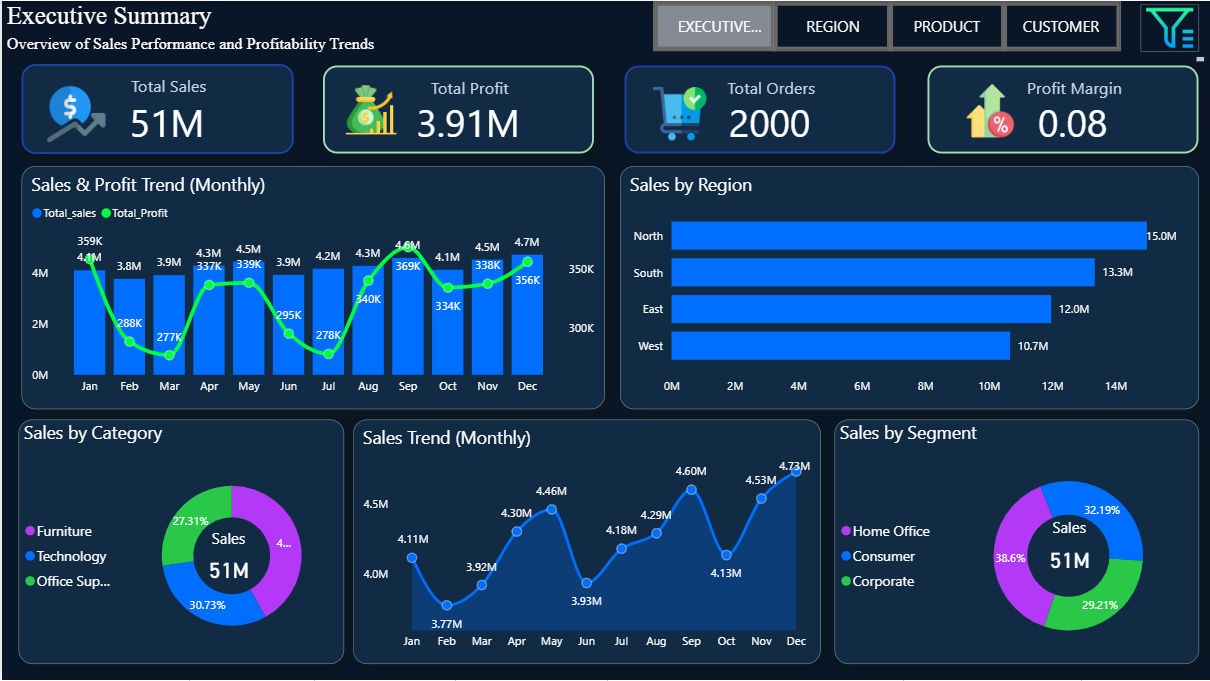

The page's visual inventory and layout, read from the dashboard file:
{"tool":"powerbi","page":{"name":"EXECUTIVE SUMMARY","canvas":[1280,720],"ordinal":0},"visuals":[{"type":"textbox","title":"Executive Summary","box":[0,0,1279.4,68.9],"z":0},{"type":"actionButton","title":"REGION                     ","box":[817.7,0,127.4,53.4],"z":0,"group":"g7"},{"type":"card","title":"Total Sales","fields":{"Values":["Calculate Measure.Total_sales"]},"box":[20,66.7,288.3,95],"z":0,"group":"g3"},{"type":"card","title":"Total Orders","fields":{"Values":["Calculate Measure.Total_Orders"]},"box":[660.7,68.3,287.6,93.1],"z":0,"group":"g5"},{"type":"card","title":"Total Profit","fields":{"Values":["Calculate Measure.Total_Profit"]},"box":[340.7,68.4,287.6,93.1],"z":0,"group":"g4"},{"type":"card","title":"Profit Margin","fields":{"Values":["Calculate Measure.Profit_margin"]},"box":[981.4,68.4,287.6,93.1],"z":0,"group":"g6"},{"type":"donutChart","title":"Sales by Category","fields":{"Category":["products.Category"],"Y":["Calculate Measure.Total_sales"]},"box":[17.5,443.8,345.2,259.3],"z":0,"group":"g2"},{"type":"donutChart","title":"  Sales by Segment","fields":{"Category":["customers.Segment"],"Y":["Calculate Measure.Total_sales"]},"box":[882.8,443.8,386.5,259.3],"z":0,"group":"g1"},{"type":"actionButton","title":"REGION                     ","box":[690.3,0,130,53.4],"z":1000,"group":"g7"},{"type":"image","box":[363.5,77.5,56.8,74],"z":1000,"group":"g4"},{"type":"image","box":[1019.4,82.7,56.8,67.2],"z":1000,"group":"g6"},{"type":"image","box":[47.6,84.6,62.2,68.5],"z":1000,"group":"g3"},{"type":"image","box":[691.1,85.9,56.8,67.2],"z":1000,"group":"g5"},{"type":"lineClusteredColumnComboChart","title":"Sales & Profit Trend (Monthly)","fields":{"Category":["date_table.Month_Short"],"Y":["Calculate Measure.Total_sales"],"Y2":["Calculate Measure.Total_Profit"]},"box":[20.7,175,618.7,257.7],"z":1000},{"type":"card","title":"Sales","fields":{"Values":["Calculate Measure.Total_sales"]},"box":[1091.2,547.8,81.1,64.4],"z":1000,"group":"g1"},{"type":"card","title":"Sales","fields":{"Values":["Calculate Measure.Total_sales"]},"box":[204.3,558.3,73.2,62],"z":1000,"group":"g2"},{"type":"actionButton","title":"REGION                     ","box":[938.3,0,127.4,53.4],"z":2000,"group":"g7"},{"type":"barChart","title":"Sales by Region","fields":{"Category":["regions.Region"],"Y":["Calculate Measure.Total_sales"]},"box":[655.3,175,614,257.7],"z":2000},{"type":"actionButton","title":"REGION                     ","box":[1058.8,0,127.4,53.4],"z":3000,"group":"g7"},{"type":"lineChart","title":"Sales Trend (Monthly)","fields":{"Category":["date_table.Month_Short"],"Y":["Calculate Measure.Total_sales"]},"box":[372.2,443.8,496.3,259.3],"z":3000},{"type":"group","id":"g1","title":"Group 6","box":[882.8,443.8,386.5,259.3],"z":4000},{"type":"group","id":"g2","title":"Group 4","box":[17.5,443.8,345.2,259.3],"z":5000},{"type":"group","id":"g3","title":"Group 3","box":[20,66.7,288.3,95],"z":6000},{"type":"group","id":"g4","title":"Group 2","box":[340.7,68.4,287.6,93.1],"z":7000},{"type":"group","id":"g5","title":"Group 5","box":[660.7,68.3,288.3,93.3],"z":8000},{"type":"group","id":"g6","title":"Group 1","box":[981.4,68.4,287.6,93.1],"z":9000},{"type":"group","id":"g7","title":"Group 7","box":[690.3,0,496.3,54.1],"z":10000},{"type":"image","box":[1207.3,3.2,62,50.9],"z":11000}]}

Visuals, with their boxes in screenshot pixels (x1, y1, x2, y2), scaled from the page's 1280x720 canvas onto the 1210x681 screenshot:
"Executive Summary" textbox: (x1=0, y1=0, x2=1209, y2=65)
"REGION                     " actionButton: (x1=773, y1=0, x2=893, y2=51)
"Total Sales" card: (x1=19, y1=63, x2=291, y2=153)
"Total Orders" card: (x1=625, y1=65, x2=896, y2=153)
"Total Profit" card: (x1=322, y1=65, x2=594, y2=153)
"Profit Margin" card: (x1=928, y1=65, x2=1200, y2=153)
"Sales by Category" donutChart: (x1=17, y1=420, x2=343, y2=665)
"  Sales by Segment" donutChart: (x1=835, y1=420, x2=1200, y2=665)
"REGION                     " actionButton: (x1=653, y1=0, x2=775, y2=51)
image: (x1=344, y1=73, x2=397, y2=143)
image: (x1=964, y1=78, x2=1017, y2=142)
image: (x1=45, y1=80, x2=104, y2=145)
image: (x1=653, y1=81, x2=707, y2=145)
"Sales & Profit Trend (Monthly)" lineClusteredColumnComboChart: (x1=20, y1=166, x2=604, y2=409)
"Sales" card: (x1=1032, y1=518, x2=1108, y2=579)
"Sales" card: (x1=193, y1=528, x2=262, y2=587)
"REGION                     " actionButton: (x1=887, y1=0, x2=1007, y2=51)
"Sales by Region" barChart: (x1=619, y1=166, x2=1200, y2=409)
"REGION                     " actionButton: (x1=1001, y1=0, x2=1121, y2=51)
"Sales Trend (Monthly)" lineChart: (x1=352, y1=420, x2=821, y2=665)
"Group 6" group: (x1=835, y1=420, x2=1200, y2=665)
"Group 4" group: (x1=17, y1=420, x2=343, y2=665)
"Group 3" group: (x1=19, y1=63, x2=291, y2=153)
"Group 2" group: (x1=322, y1=65, x2=594, y2=153)
"Group 5" group: (x1=625, y1=65, x2=897, y2=153)
"Group 1" group: (x1=928, y1=65, x2=1200, y2=153)
"Group 7" group: (x1=653, y1=0, x2=1122, y2=51)
image: (x1=1141, y1=3, x2=1200, y2=51)
